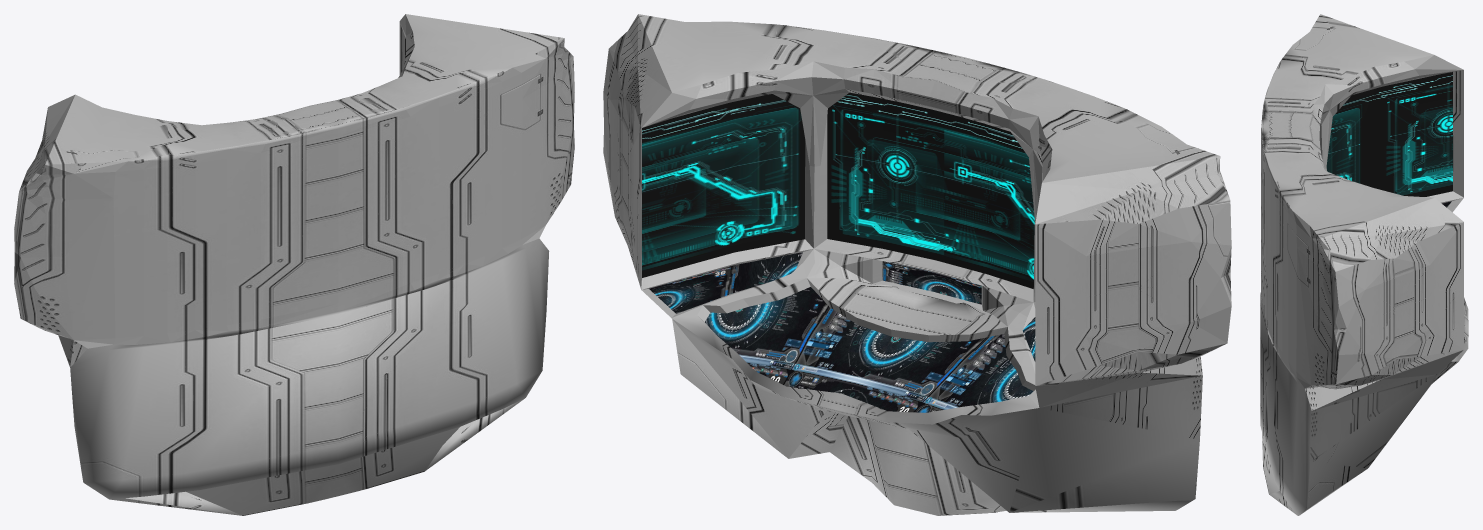
The model's file is machine5.fbx.
The picture shows the model from 3 angles, left to right: view 1: azimuth 30°, elevation 25°; view 2: azimuth 150°, elevation 25°; view 3: azimuth 270°, elevation 25°; orthographic projection. The views are drawn at different scales.
Visible parts, largest first — view 1: MaterialFBXASC032FBXASC0352142150880; view 2: MaterialFBXASC032FBXASC0352142150880, MaterialFBXASC032FBXASC0352142148966, MaterialFBXASC032FBXASC0352142148017, MaterialFBXASC032FBXASC0352142148579; view 3: MaterialFBXASC032FBXASC0352142150880, MaterialFBXASC032FBXASC0352142148966.
Boxes of the visible parts, <box> form: MaterialFBXASC032FBXASC0352142150880: <box>14,14,574,515</box>; MaterialFBXASC032FBXASC0352142150880: <box>603,14,1231,515</box>; MaterialFBXASC032FBXASC0352142148966: <box>642,92,1034,288</box>; MaterialFBXASC032FBXASC0352142148017: <box>705,287,1033,412</box>; MaterialFBXASC032FBXASC0352142148579: <box>649,252,1035,361</box>; MaterialFBXASC032FBXASC0352142150880: <box>1260,14,1468,515</box>; MaterialFBXASC032FBXASC0352142148966: <box>1326,72,1452,196</box>.
Bounding box in the file's own units: 2648 × 1676 × 961.
Materials: 4 (1 with a texture image).
